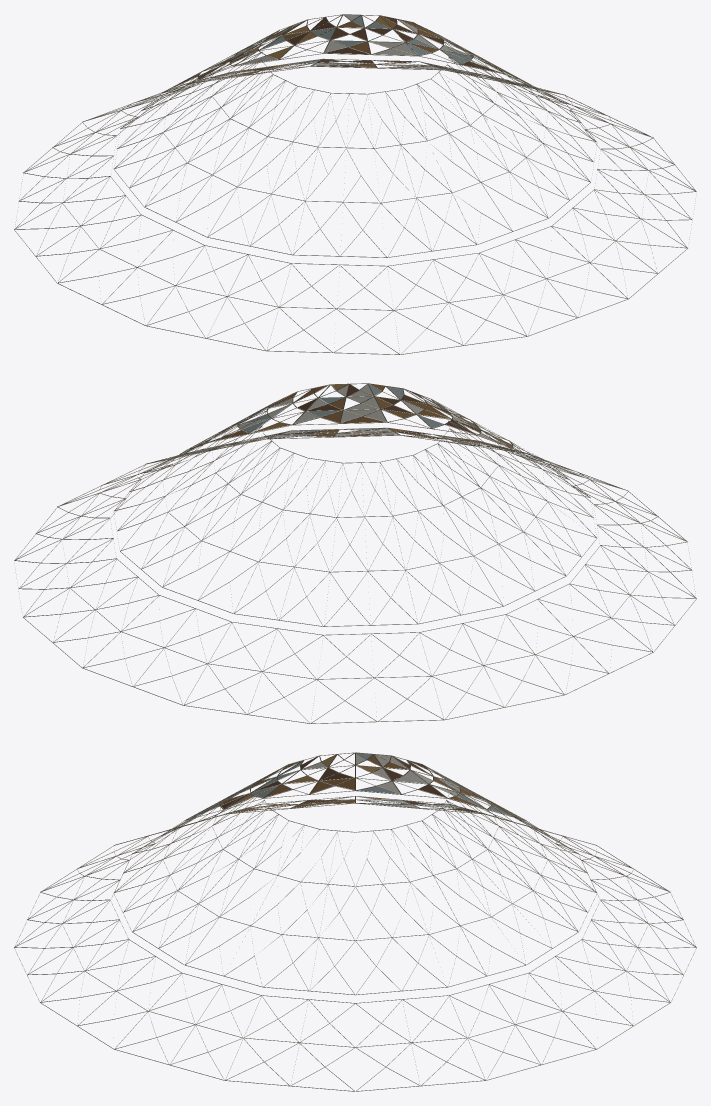
The model's file is lining.glb.
3 renders of one model, top to bottom at view 1: azimuth 30°, elevation 25°; view 2: azimuth 150°, elevation 25°; view 3: azimuth 270°, elevation 25°, orthographic.
Parts seen in each view (by area): view 1: FamilleDomeLining; view 2: FamilleDomeLining; view 3: FamilleDomeLining.
Part boxes in pixels (box(x1,y1,x2,y2)): FamilleDomeLining: box(14, 14, 696, 354); FamilleDomeLining: box(14, 383, 696, 723); FamilleDomeLining: box(14, 752, 696, 1091).
Size of the model in its own units: 33.74 by 8.47 by 33.74.
